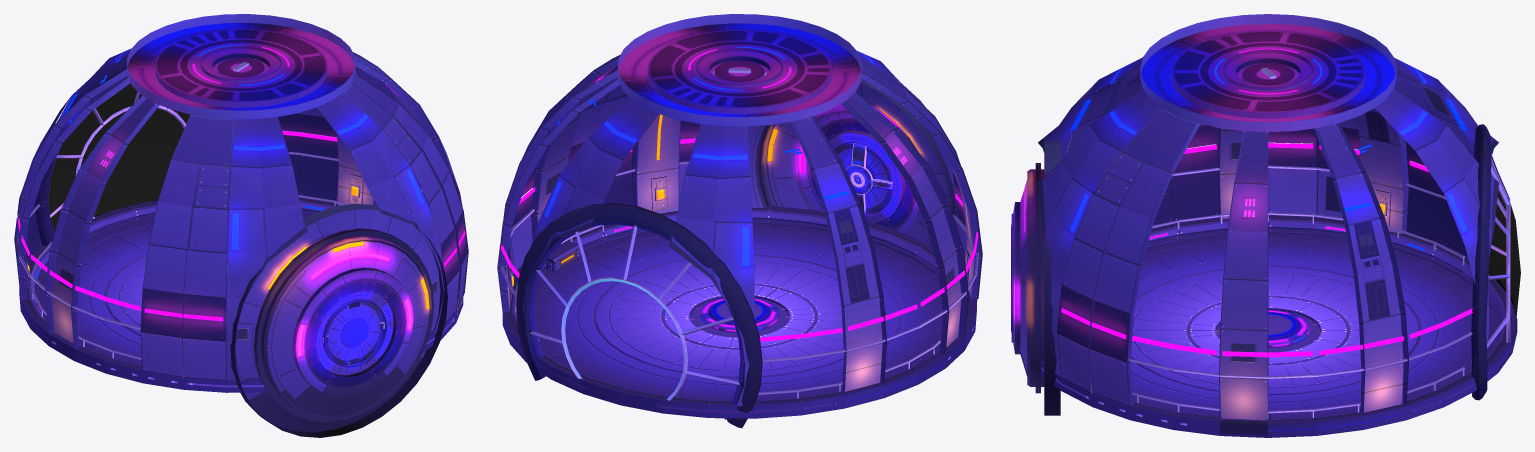
The model's file is DaisyClass_Interior.glb.
3 renders of one model, left to right at view 1: azimuth 30°, elevation 25°; view 2: azimuth 150°, elevation 25°; view 3: azimuth 270°, elevation 25°, orthographic. The views are drawn at different scales.
Visible parts, largest first — view 1: Engine.002, Wall 01.002, Ceiling.002, Wall 04.002, Ground.002, RivetWall01.002, Glass_Window.002, RivetWall00.002, Wall 00.002, Window.002, RivetWall02.002, Wall Rail.002 (+2 smaller); view 2: Ground.002, Ceiling.002, Wall 04.002, RivetWall00.002, Engine.002, Window.002, RivetWall01.002, RivetWall02.002, Wall 02.002, Wall 01.002, Wall 03.004, Wall Rail.002 (+4 smaller); view 3: Ground.002, Ceiling.002, Wall 01.002, Wall 04.002, RivetWall00.002, RivetWall01.002, Engine.002, Window.002, Wall 00.002, Wall 02.002, Wall 03.004, RivetWall02.002 (+9 smaller).
Boxes of the visible parts, x1=… form: Engine.002: x1=230, y1=203, x2=447, y2=437; Wall 01.002: x1=140, y1=75, x2=467, y2=380; Ceiling.002: x1=127, y1=14, x2=355, y2=119; Wall 04.002: x1=41, y1=48, x2=444, y2=381; Ground.002: x1=19, y1=194, x2=463, y2=392; RivetWall01.002: x1=45, y1=47, x2=448, y2=348; Glass_Window.002: x1=48, y1=83, x2=232, y2=231; RivetWall00.002: x1=15, y1=28, x2=376, y2=298; Wall 00.002: x1=14, y1=97, x2=338, y2=262; Window.002: x1=35, y1=65, x2=186, y2=245; RivetWall02.002: x1=140, y1=74, x2=468, y2=378; Wall Rail.002: x1=17, y1=152, x2=422, y2=329; Ground.002: x1=502, y1=205, x2=976, y2=418; Ceiling.002: x1=617, y1=14, x2=861, y2=126; Wall 04.002: x1=523, y1=51, x2=957, y2=406; RivetWall00.002: x1=498, y1=68, x2=886, y2=395; Engine.002: x1=747, y1=78, x2=957, y2=251; Window.002: x1=516, y1=203, x2=762, y2=428; RivetWall01.002: x1=530, y1=41, x2=968, y2=355; RivetWall02.002: x1=632, y1=63, x2=982, y2=298; Wall 02.002: x1=568, y1=54, x2=981, y2=313; Wall 01.002: x1=632, y1=58, x2=982, y2=268; Wall 03.004: x1=510, y1=59, x2=611, y2=270; Wall Rail.002: x1=500, y1=161, x2=978, y2=361; Ground.002: x1=1040, y1=215, x2=1517, y2=437; Ceiling.002: x1=1140, y1=14, x2=1396, y2=132; Wall 01.002: x1=1057, y1=76, x2=1196, y2=406; Wall 04.002: x1=1037, y1=57, x2=1498, y2=377; RivetWall00.002: x1=1314, y1=28, x2=1408, y2=415; RivetWall01.002: x1=1219, y1=24, x2=1268, y2=420; Engine.002: x1=1011, y1=140, x2=1060, y2=415; Window.002: x1=1469, y1=124, x2=1510, y2=400; Wall 00.002: x1=1394, y1=69, x2=1470, y2=256; Wall 02.002: x1=1139, y1=122, x2=1219, y2=225; Wall 03.004: x1=1219, y1=128, x2=1317, y2=214; RivetWall02.002: x1=1088, y1=57, x2=1200, y2=407.
Size of what is drawn, in the model's own units: 33.48 by 24.42 by 33.72.
21 materials, 15 textured.
